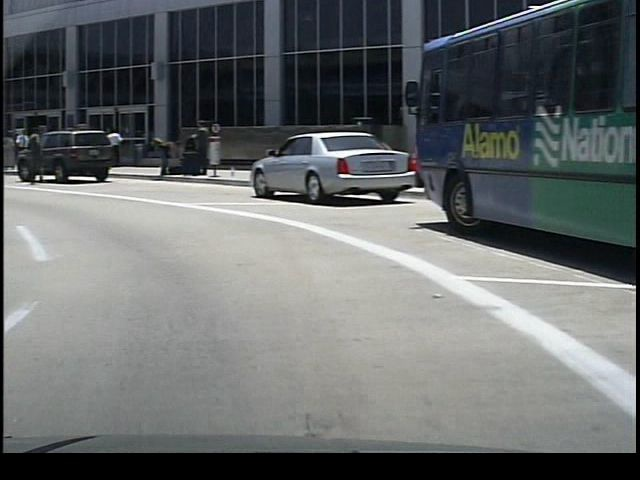person: (22, 117, 51, 193), (148, 130, 178, 184), (186, 120, 206, 178), (101, 126, 122, 168)
